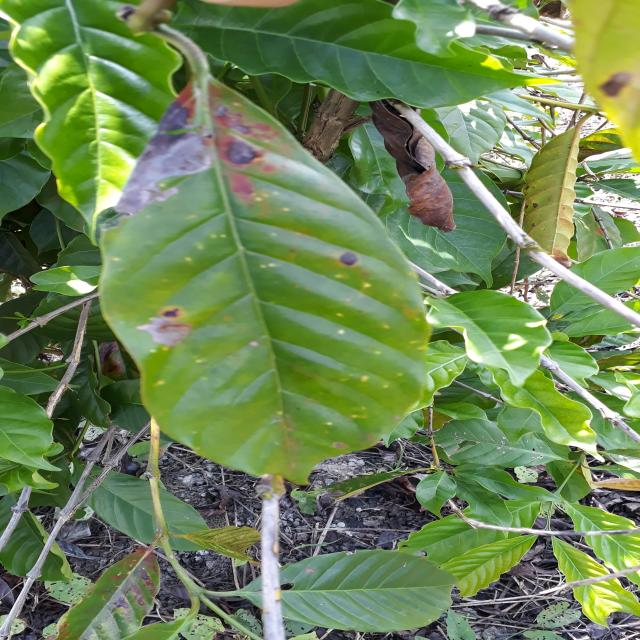Enfermedad-Roya: (95, 27, 432, 487)
